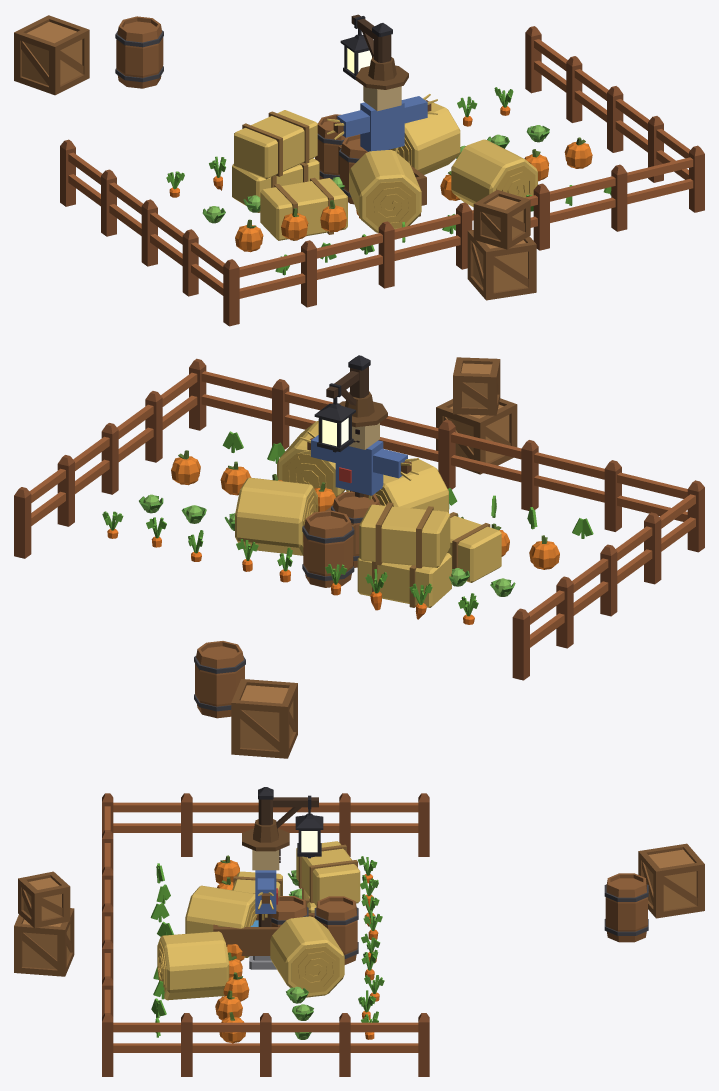
Rendered from w1_farm.fbx.
The picture shows the model from 3 angles, top to bottom: view 1: azimuth 30°, elevation 25°; view 2: azimuth 150°, elevation 25°; view 3: azimuth 270°, elevation 25°; orthographic projection. The views are drawn at different scales.
Visible parts, largest first — view 1: HayYard.Hay, CropField.FenceRail, CropField.FencePost, CottageYard.DarkWood, BarnYard.DarkWood, CropField.Pumpkin, HayYard.HayEnd, CropField.Cloth, BarnYard.Barrel, CottageYard.Crate, BarnYard.Crate, CottageYard.Barrel (+9 smaller); view 2: HayYard.Hay, CropField.FenceRail, CropField.FencePost, CottageYard.DarkWood, CottageYard.Barrel, CropField.Sprout, BarnYard.DarkWood, CropField.Cloth, BarnYard.Barrel, CropField.Pumpkin, BarnYard.Crate, HayYard.HayEnd (+9 smaller); view 3: HayYard.Hay, CropField.FenceRail, CropField.FencePost, CottageYard.DarkWood, BarnYard.DarkWood, CropField.Sprout, BarnYard.Barrel, CottageYard.Barrel, HayYard.HayEnd, CropField.Pumpkin, CottageYard.Crate, BarnYard.Crate (+10 smaller).
Boxes of the visible parts, x1=… form: HayYard.Hay: x1=232, y1=101, x2=537, y2=240; CropField.FenceRail: x1=68, y1=39, x2=693, y2=298; CropField.FencePost: x1=60, y1=26, x2=704, y2=326; CottageYard.DarkWood: x1=467, y1=190, x2=536, y2=300; BarnYard.DarkWood: x1=14, y1=15, x2=426, y2=216; CropField.Pumpkin: x1=235, y1=142, x2=592, y2=252; HayYard.HayEnd: x1=366, y1=137, x2=535, y2=228; CropField.Cloth: x1=337, y1=96, x2=427, y2=151; BarnYard.Barrel: x1=116, y1=16, x2=163, y2=88; CottageYard.Crate: x1=473, y1=196, x2=527, y2=291; BarnYard.Crate: x1=22, y1=21, x2=82, y2=85; CottageYard.Barrel: x1=315, y1=114, x2=367, y2=204; HayYard.Hay: x1=235, y1=421, x2=501, y2=607; CropField.FenceRail: x1=29, y1=371, x2=695, y2=647; CropField.FencePost: x1=14, y1=358, x2=704, y2=680; CottageYard.DarkWood: x1=436, y1=357, x2=517, y2=474; CottageYard.Barrel: x1=303, y1=491, x2=379, y2=587; CropField.Sprout: x1=102, y1=431, x2=593, y2=616; BarnYard.DarkWood: x1=231, y1=504, x2=382, y2=758; CropField.Cloth: x1=311, y1=435, x2=407, y2=495; BarnYard.Barrel: x1=195, y1=641, x2=244, y2=718; CropField.Pumpkin: x1=171, y1=456, x2=559, y2=569; BarnYard.Crate: x1=240, y1=685, x2=293, y2=750; HayYard.HayEnd: x1=282, y1=453, x2=388, y2=541; HayYard.Hay: x1=157, y1=841, x2=360, y2=1000; CropField.FenceRail: x1=104, y1=802, x2=418, y2=1052; CropField.FencePost: x1=102, y1=793, x2=429, y2=1076; CottageYard.DarkWood: x1=14, y1=871, x2=74, y2=976; BarnYard.DarkWood: x1=213, y1=843, x2=704, y2=955; CropField.Sprout: x1=150, y1=856, x2=384, y2=1037; BarnYard.Barrel: x1=605, y1=873, x2=647, y2=942; CottageYard.Barrel: x1=271, y1=896, x2=357, y2=964; HayYard.HayEnd: x1=157, y1=902, x2=339, y2=992; CropField.Pumpkin: x1=214, y1=860, x2=249, y2=1043; CottageYard.Crate: x1=22, y1=877, x2=70, y2=969; BarnYard.Crate: x1=643, y1=849, x2=696, y2=910.
Bounding box in the file's own units: 25.55 × 9.38 × 33.21.
